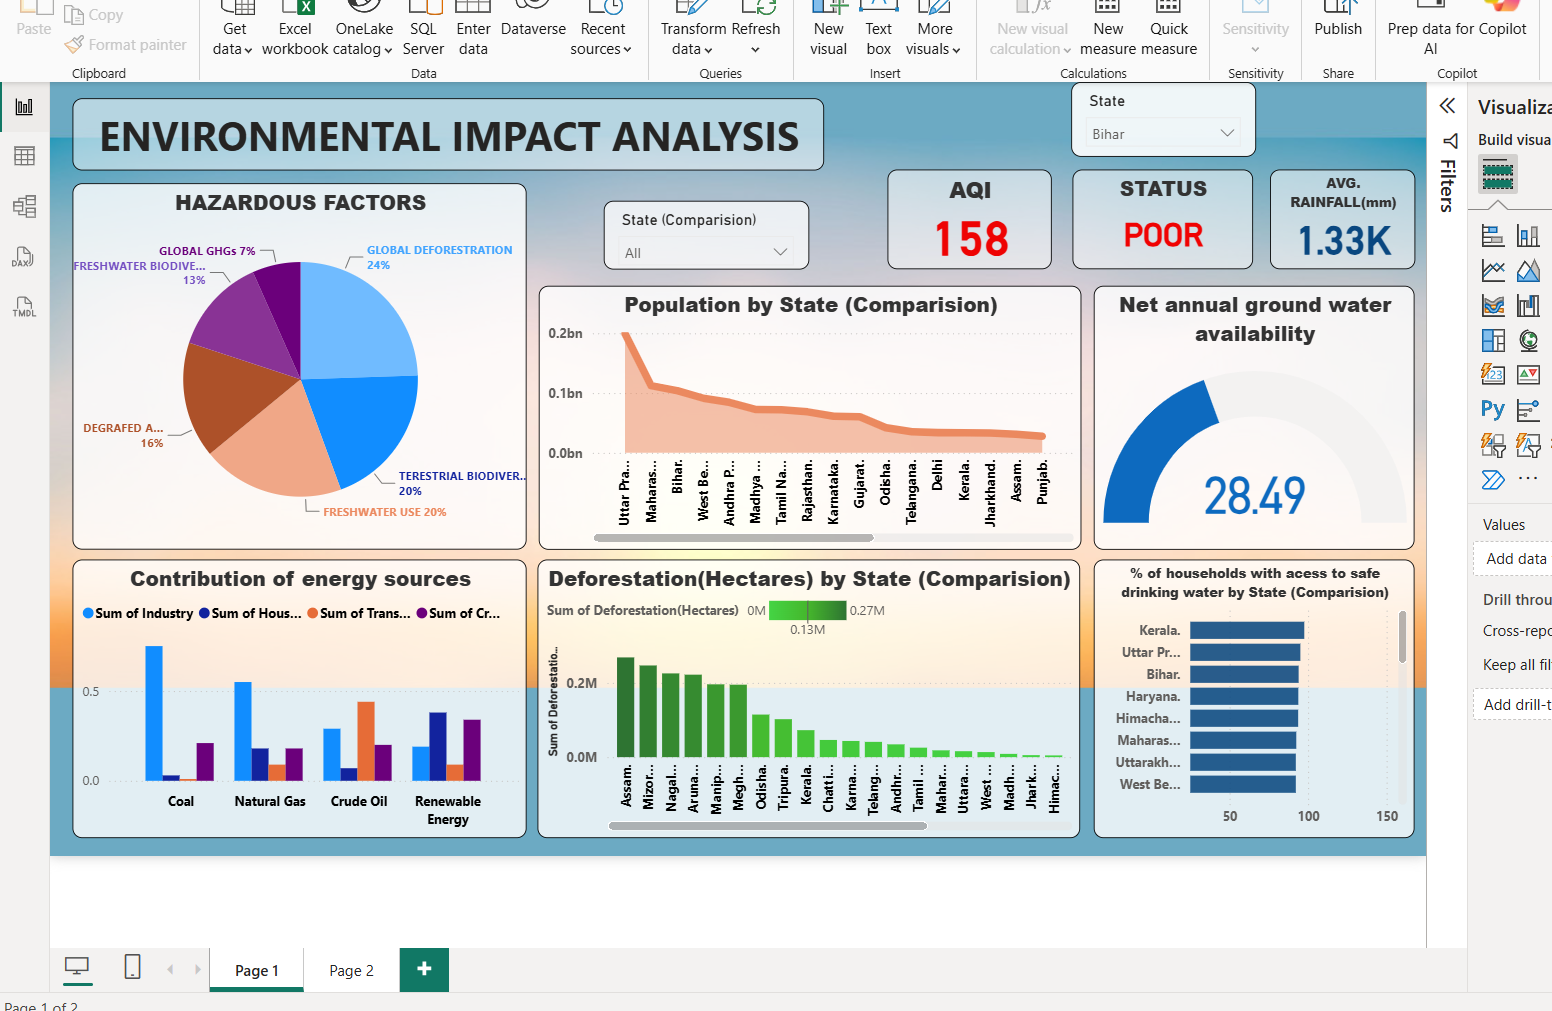

What the dashboard file says about the page in this screenshot:
{"tool":"powerbi","page":{"name":"Page 1","canvas":[1280,720],"ordinal":0},"visuals":[{"type":"card","title":"AQI","fields":{"Values":["Sum(Book3.AQI)"]},"box":[778.5,81.8,152.7,92.7],"z":0},{"type":"card","title":"AVG. RAINFALL(mm)","fields":{"Values":["Sum(Book3.Average Rainfall (mm))"]},"box":[1134.4,81.8,135,92.7],"z":1000},{"type":"card","title":"STATUS","fields":{"Values":["Min(Book3.Status)"]},"box":[951.7,81.8,167.7,92.7],"z":2000},{"type":"gauge","title":"Net annual ground water availability","fields":{"Y":["Sum(Book3.Net annual ground water availability)"]},"box":[970.8,189.5,298.6,245.4],"z":3000},{"type":"pieChart","title":"HAZARDOUS FACTORS","fields":{"Category":["Book2.Column1"],"Y":["Sum(Book2.Column3)"]},"box":[20.5,94.1,422.7,340.9],"z":4000},{"type":"clusteredColumnChart","title":"Contribution of energy sources","fields":{"Category":["contribultion renewable energy.Source of energy"],"Y":["Sum(contribultion renewable energy.Industry)","Sum(contribultion renewable energy.Households)","Sum(contribultion renewable energy.Transport)","Sum(contribultion renewable energy.Craft,Trade,Service)"]},"box":[20.5,444.5,422.7,259.1],"z":5000},{"type":"slicer","fields":{"Values":["Book3.State "]},"box":[950.3,0,171.8,69.5],"z":6000},{"type":"barChart","title":"% of households with acess to safe drinking water by State (Comparision)","fields":{"Y":["Sum(final data.% of households with acess to safe drinking water)"],"Category":["final data.State (Comparision)"]},"box":[970.8,444.5,298.6,259.1],"z":7000},{"type":"columnChart","title":"Deforestation(Hectares) by State (Comparision)","fields":{"Y":["Sum(final data.Deforestation(Hectares))"],"Category":["final data.State (Comparision)"]},"box":[454,444.5,504.5,259.1],"z":8000},{"type":"stackedAreaChart","title":"Population by State (Comparision)","fields":{"Y":["Sum(final data.Population)"],"Category":["final data.State (Comparision)"]},"box":[454.2,189.4,505,245.6],"z":9000},{"type":"slicer","fields":{"Values":["final data.State (Comparision)"]},"box":[515.4,110.4,190.9,64.1],"z":10000},{"type":"textbox","box":[20.5,15,699.4,66.8],"z":11000}]}

Visuals, with their boxes on the page's 1280x720 design canvas (x1, y1, x2, y2). These are canvas units, not pixel positions in the 1552x1011 screenshot, which may show the page scaled, cropped or inside an application window:
"AQI" card: rect(778, 82, 931, 174)
"AVG. RAINFALL(mm)" card: rect(1134, 82, 1269, 174)
"STATUS" card: rect(952, 82, 1119, 174)
"Net annual ground water availability" gauge: rect(971, 190, 1269, 435)
"HAZARDOUS FACTORS" pieChart: rect(20, 94, 443, 435)
"Contribution of energy sources" clusteredColumnChart: rect(20, 444, 443, 704)
slicer - Book3.State : rect(950, 0, 1122, 70)
"% of households with acess to safe drinking water by State (Comparision)" barChart: rect(971, 444, 1269, 704)
"Deforestation(Hectares) by State (Comparision)" columnChart: rect(454, 444, 958, 704)
"Population by State (Comparision)" stackedAreaChart: rect(454, 189, 959, 435)
slicer - final data.State (Comparision): rect(515, 110, 706, 174)
textbox: rect(20, 15, 720, 82)
